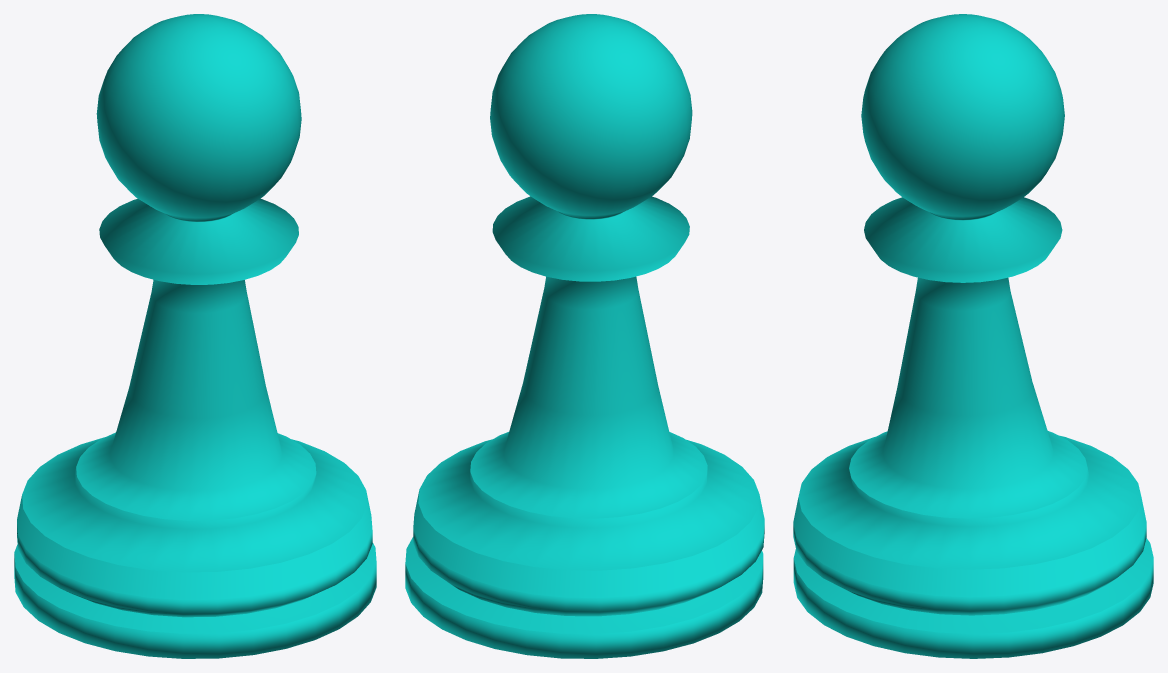
The model's file is blue1.glb.
3 renders of one model, left to right at view 1: azimuth 30°, elevation 25°; view 2: azimuth 150°, elevation 25°; view 3: azimuth 270°, elevation 25°, orthographic.
Parts seen in each view (by area): view 1: Sphere_0; view 2: Sphere_0; view 3: Sphere_0.
Part boxes in pixels (bbox=[...]): Sphere_0: bbox=[14, 14, 376, 658]; Sphere_0: bbox=[405, 14, 764, 658]; Sphere_0: bbox=[793, 14, 1153, 658].
Size of the model in its own units: 2.83 by 4.84 by 2.83.
